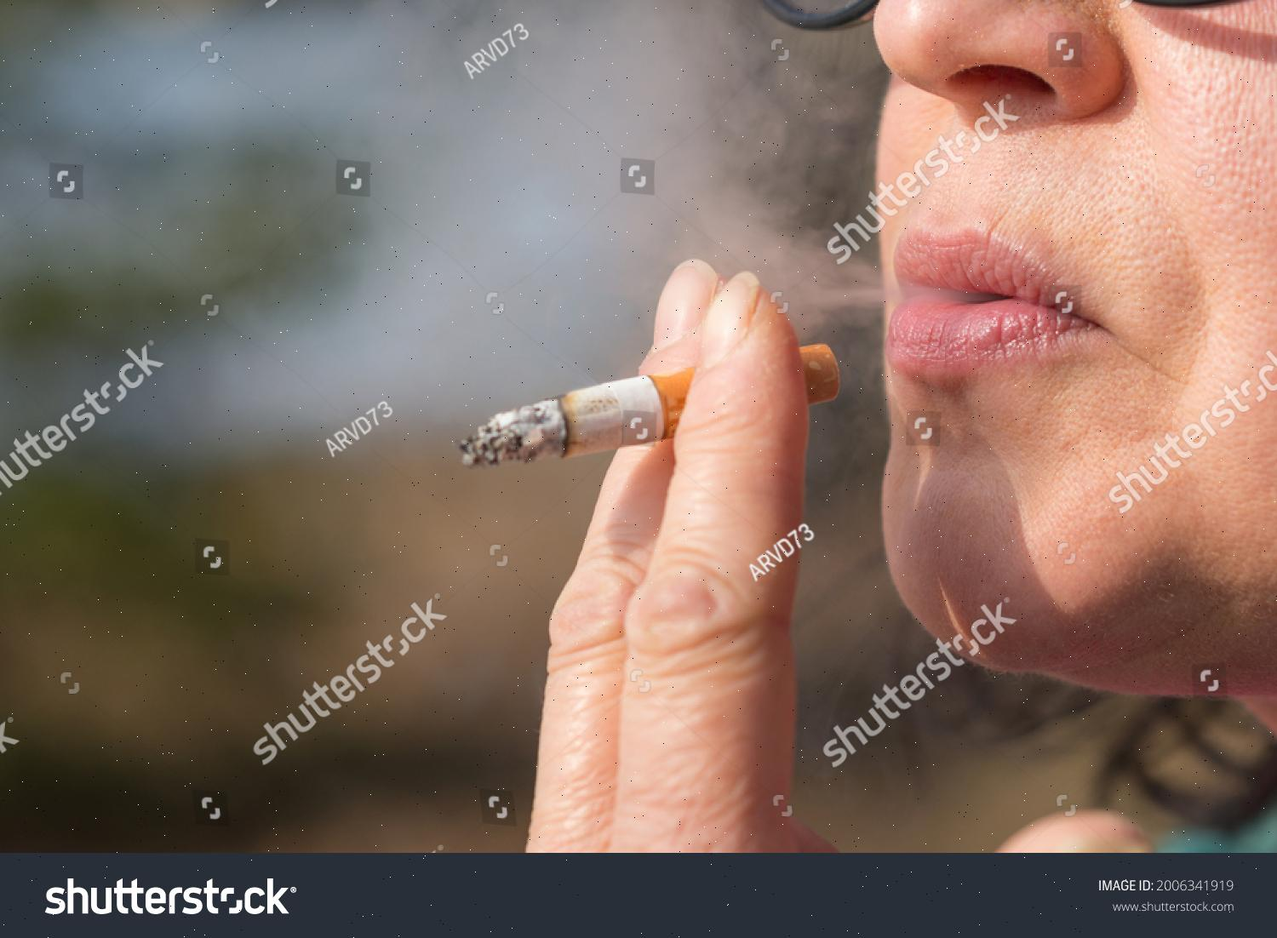cigarette: (458, 368, 694, 465)
